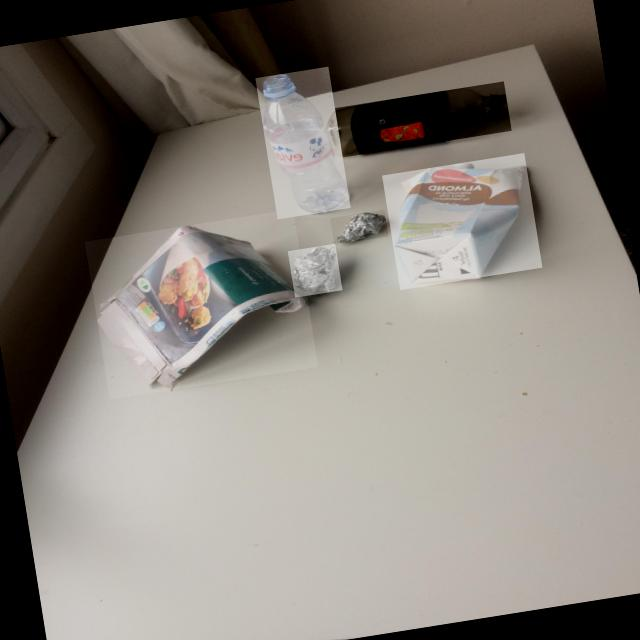Aluminium foil: (291, 247, 336, 293), (334, 213, 385, 243)
Clear plastic bottle: (327, 89, 508, 157), (263, 75, 348, 214)
Food Carton: (97, 226, 309, 390), (393, 164, 527, 285)
